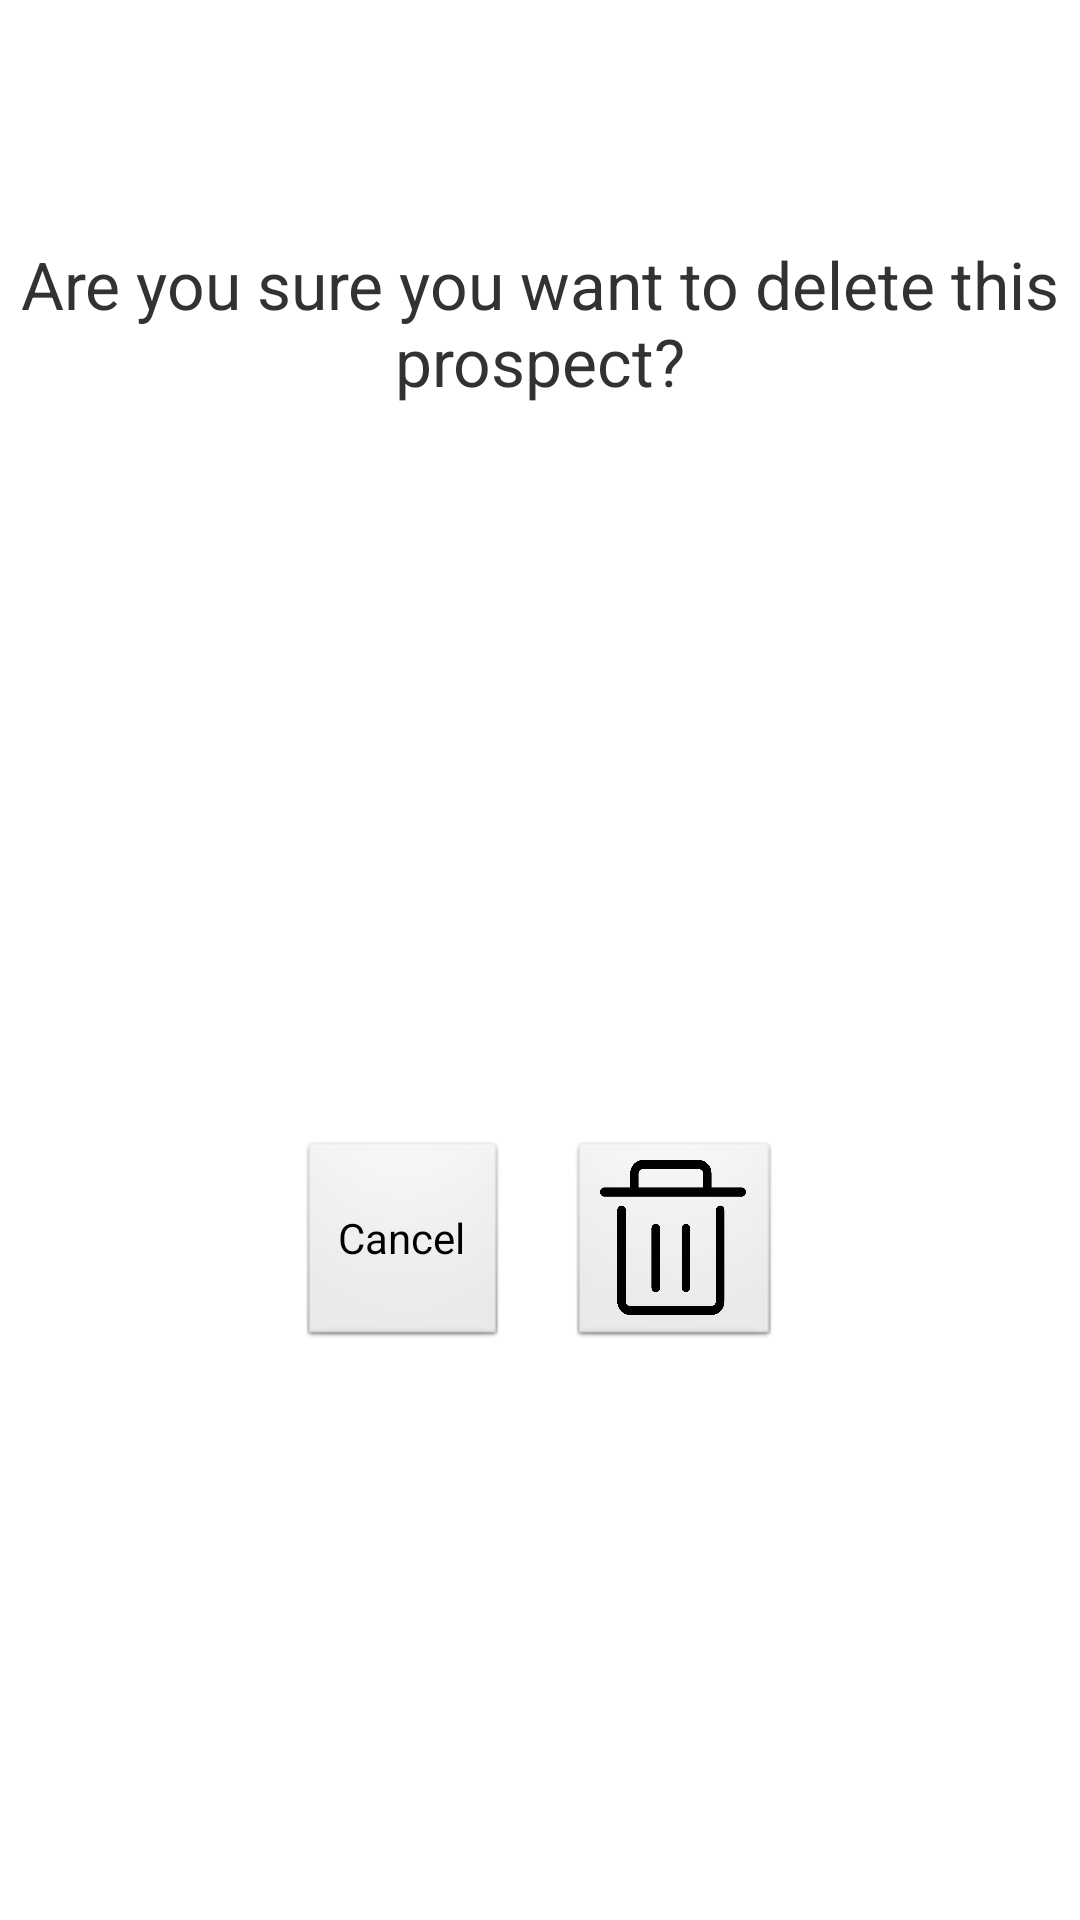

Icon click points for this 1080px×1920px phone screenshot, format [x,y]:
Delete Prospect: [674,1240]
